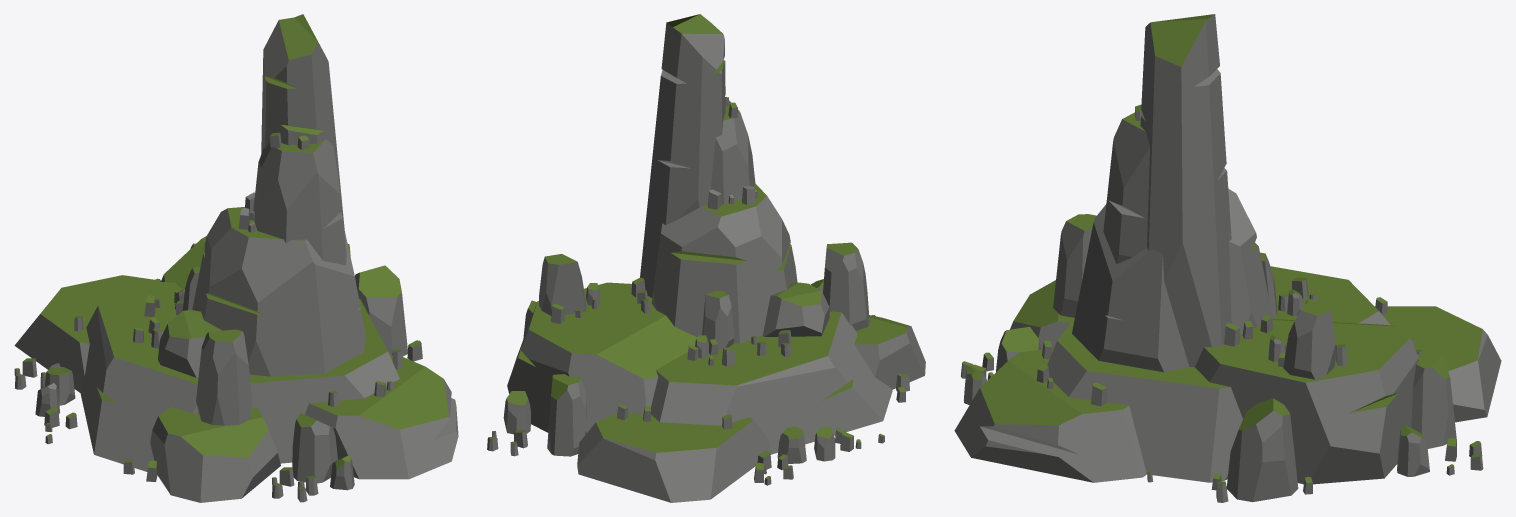
File: RockStack_5.fbx
3 views of the same model, side by side, from view 1: azimuth 30°, elevation 25°; view 2: azimuth 150°, elevation 25°; view 3: azimuth 270°, elevation 25° (orthographic). The views are drawn at different scales.
Parts seen in each view (by area): view 1: RockStack_5; view 2: RockStack_5; view 3: RockStack_5.
Part boxes in pixels (x1=…): RockStack_5: x1=14, y1=14, x2=458, y2=502; RockStack_5: x1=487, y1=14, x2=925, y2=502; RockStack_5: x1=954, y1=14, x2=1501, y2=502.
Size of the model in its own units: 801 by 785 by 937.
